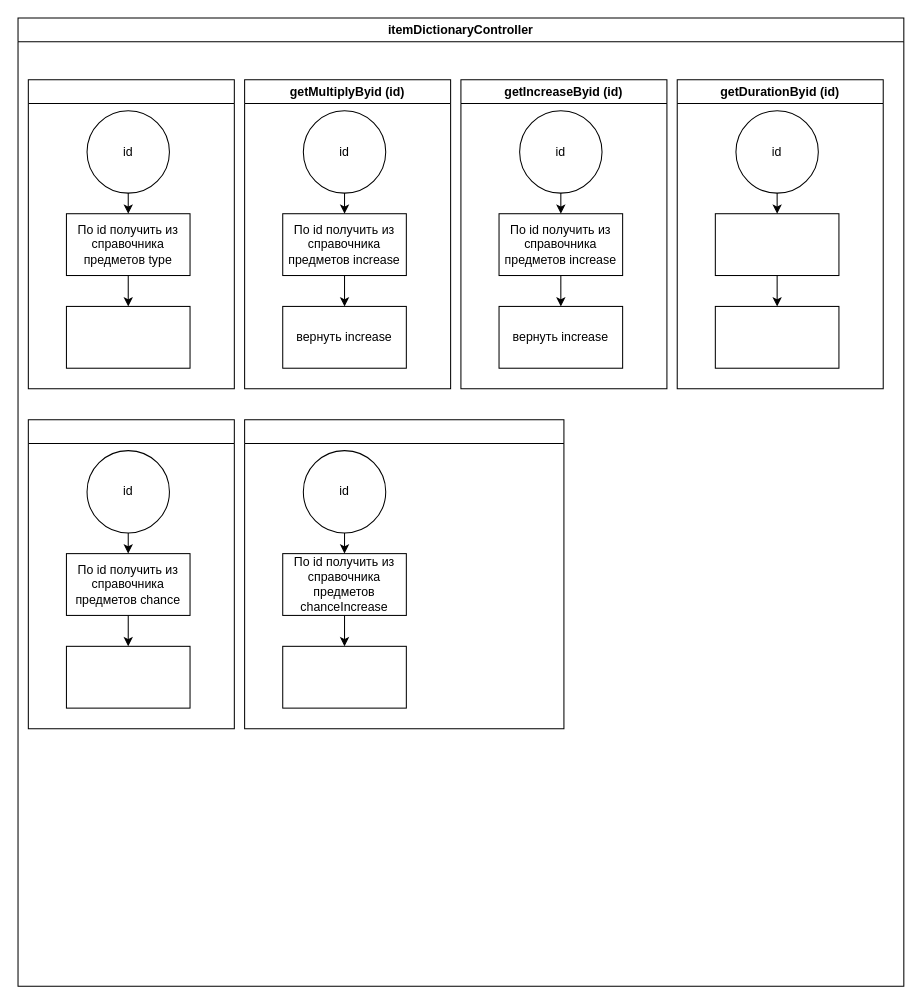
Some shapes in this 922 by 1004 pixel diagram are drawn without their labels. The shapes that lost their labels are listed below. From the top down, each one's box as (x1, y1, x2, y2) in pixels, then its label:
(27, 79, 234, 389): getTypeByid (id)
(714, 213, 839, 276): По id получить из справочника предметов duration
(65, 305, 190, 368): вернуть type
(714, 305, 839, 368): вернуть duration
(27, 419, 234, 729): getChanceByid (id)
(244, 419, 564, 729): getChanceIncreaseByid (id)
(65, 645, 190, 708): вернуть chance
(282, 645, 406, 708): вернуть chanceIncrease
